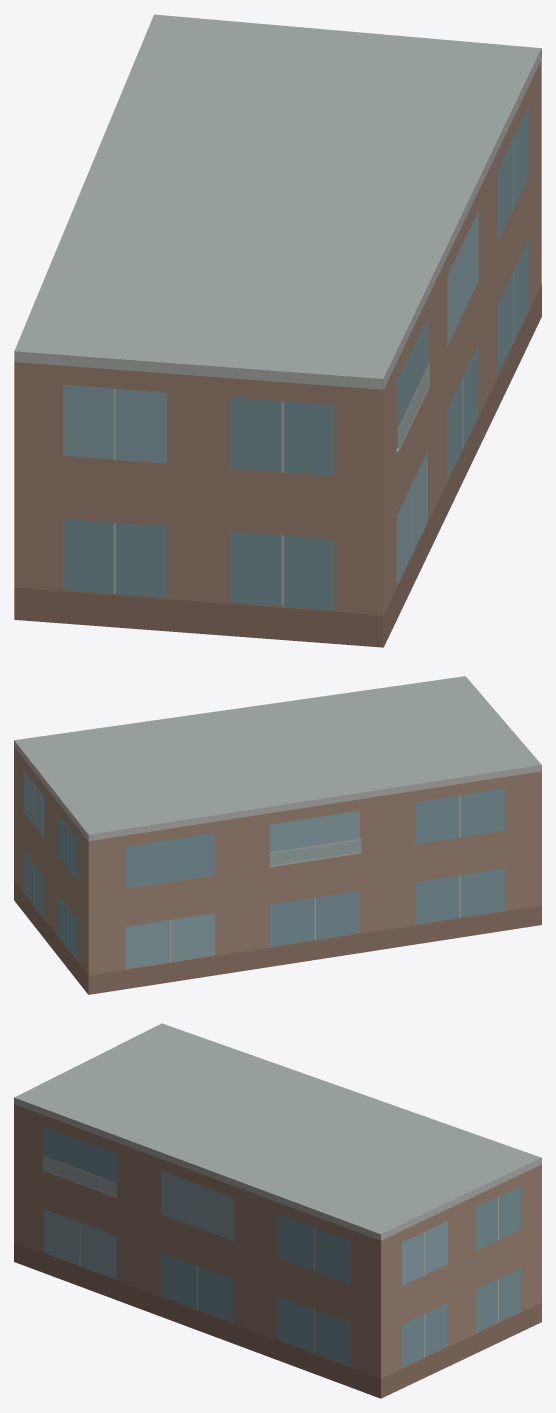
File: survey-upis-32889892.glb
3 views of the same model, one above another, from view 1: azimuth 30°, elevation 25°; view 2: azimuth 150°, elevation 25°; view 3: azimuth 270°, elevation 25° (orthographic). The views are drawn at different scales.
Visible parts, largest first — view 1: survey-upis-32889892.tmp; view 2: survey-upis-32889892.tmp; view 3: survey-upis-32889892.tmp.
Boxes of the visible parts, x1=… form: survey-upis-32889892.tmp: x1=14, y1=14, x2=541, y2=647; survey-upis-32889892.tmp: x1=14, y1=676, x2=541, y2=994; survey-upis-32889892.tmp: x1=14, y1=1023, x2=541, y2=1398.
Bounding box in the file's own units: 16.81 × 6.1 × 17.76.
